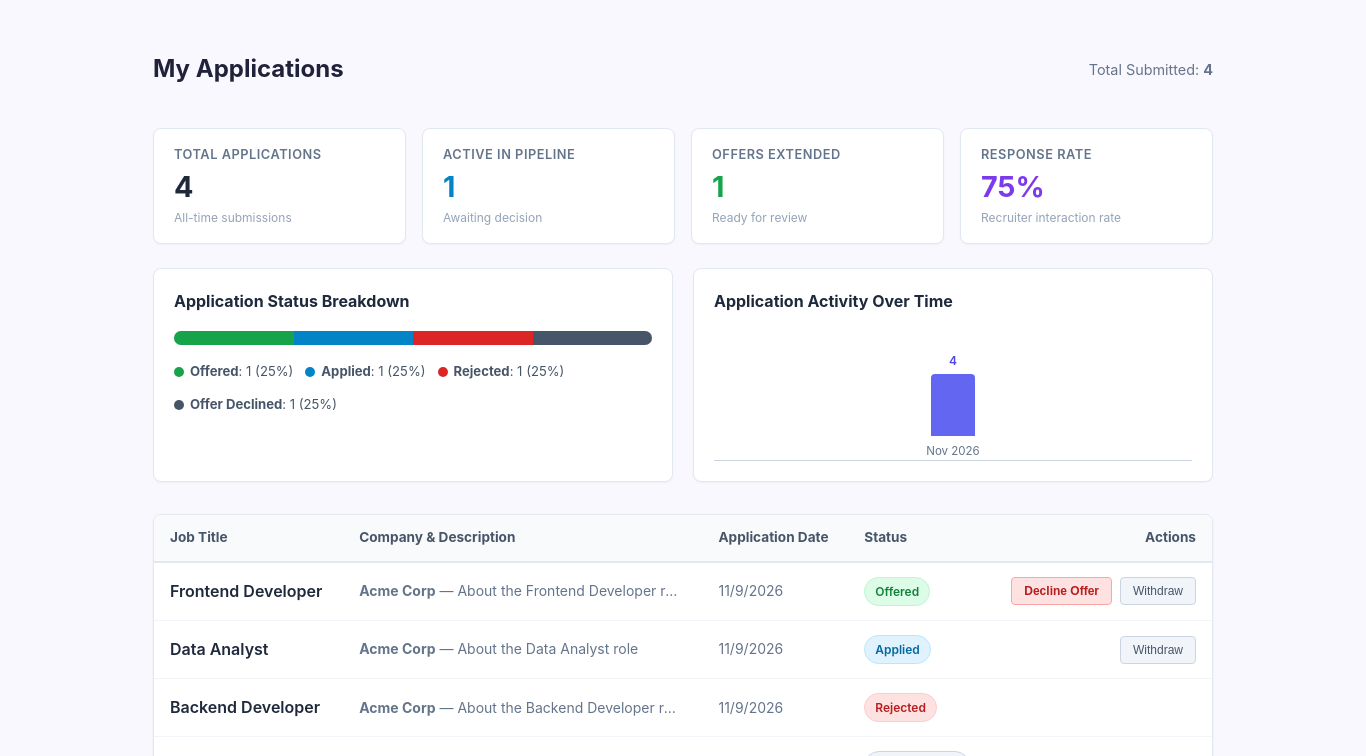
Scenario: ApplicationHistory › clears outdated applications when refreshing the history fails
Expected: the text "Data Analyst" is shown, [154, 620, 343, 679]
Click the button "Withdraw" in the row of "About the Data Analyst role".
click(1158, 650)  # box [1120, 636, 1196, 664]
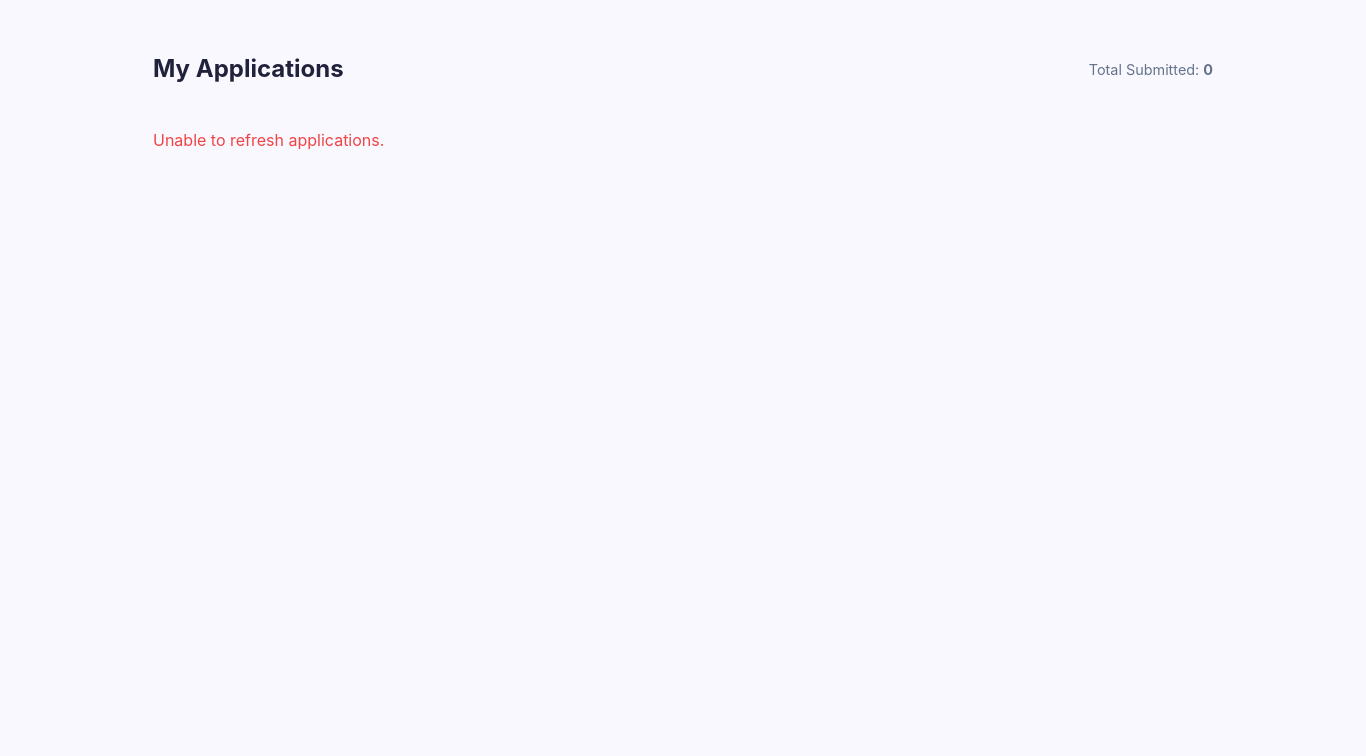
Expected: the text "Unable to refresh applications." is shown, [153, 130, 384, 150]
Expected: the text "Data Analyst" is gone
Expected: the text "Frontend Developer" is gone
